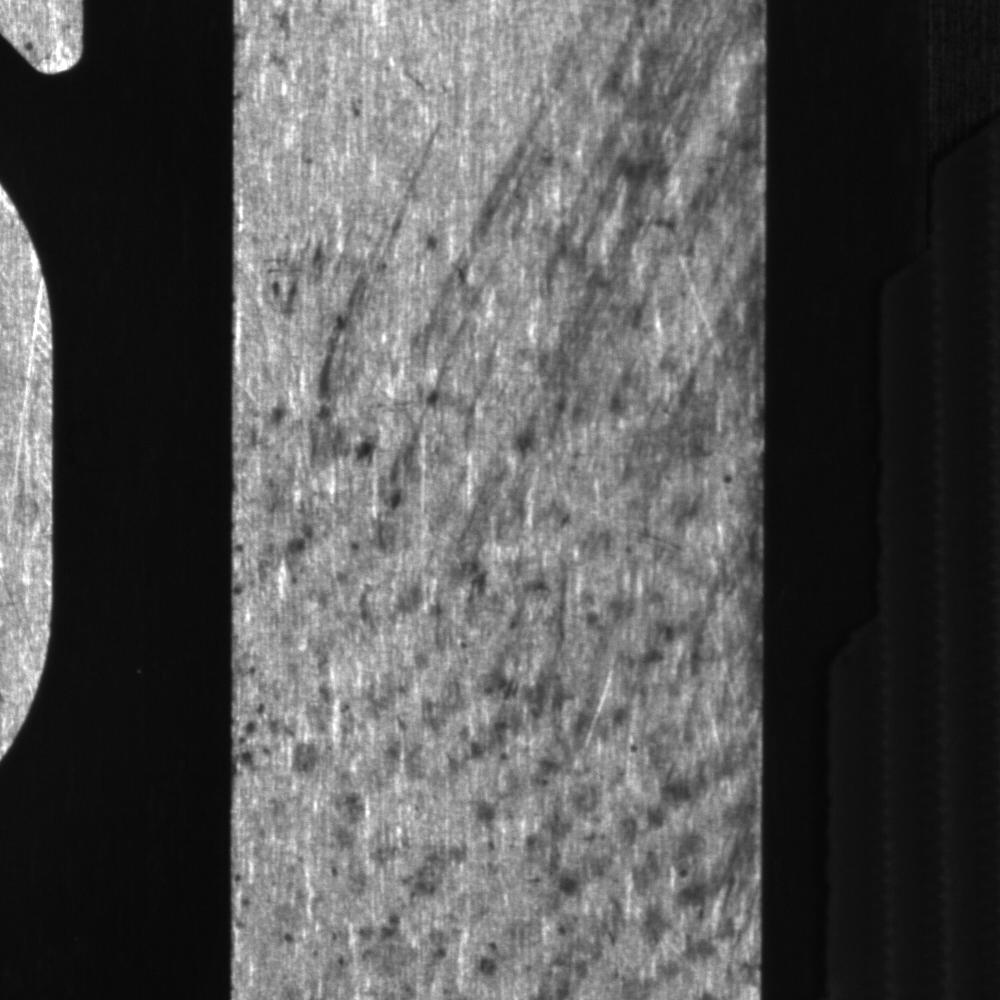Discolor: (312, 411, 756, 785), (238, 794, 759, 995), (527, 2, 765, 401), (239, 94, 528, 403)
